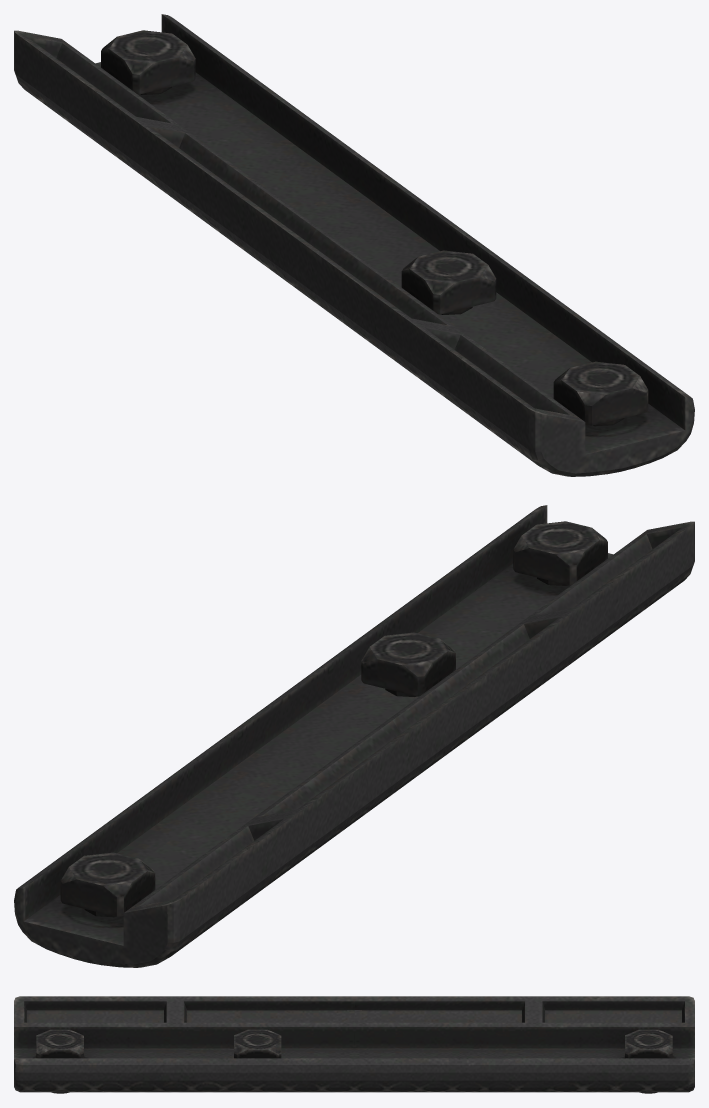
The picture shows the model from 3 angles, top to bottom: view 1: azimuth 30°, elevation 25°; view 2: azimuth 150°, elevation 25°; view 3: azimuth 270°, elevation 25°; orthographic projection. The views are drawn at different scales.
Visible parts, largest first — view 1: TW_5d123b70d7ad1a0ee35e0754_PZ_Import; view 2: TW_5d123b70d7ad1a0ee35e0754_PZ_Import; view 3: TW_5d123b70d7ad1a0ee35e0754_PZ_Import.
Part boxes in pixels (left/top/right/bottom): TW_5d123b70d7ad1a0ee35e0754_PZ_Import: left=14, top=14, right=694, bottom=476; TW_5d123b70d7ad1a0ee35e0754_PZ_Import: left=14, top=505, right=694, bottom=967; TW_5d123b70d7ad1a0ee35e0754_PZ_Import: left=14, top=996, right=694, bottom=1093.
Bounding box in the file's own units: 0.0145 × 0.0804 × 0.00759.
1 material, 1 textured.
